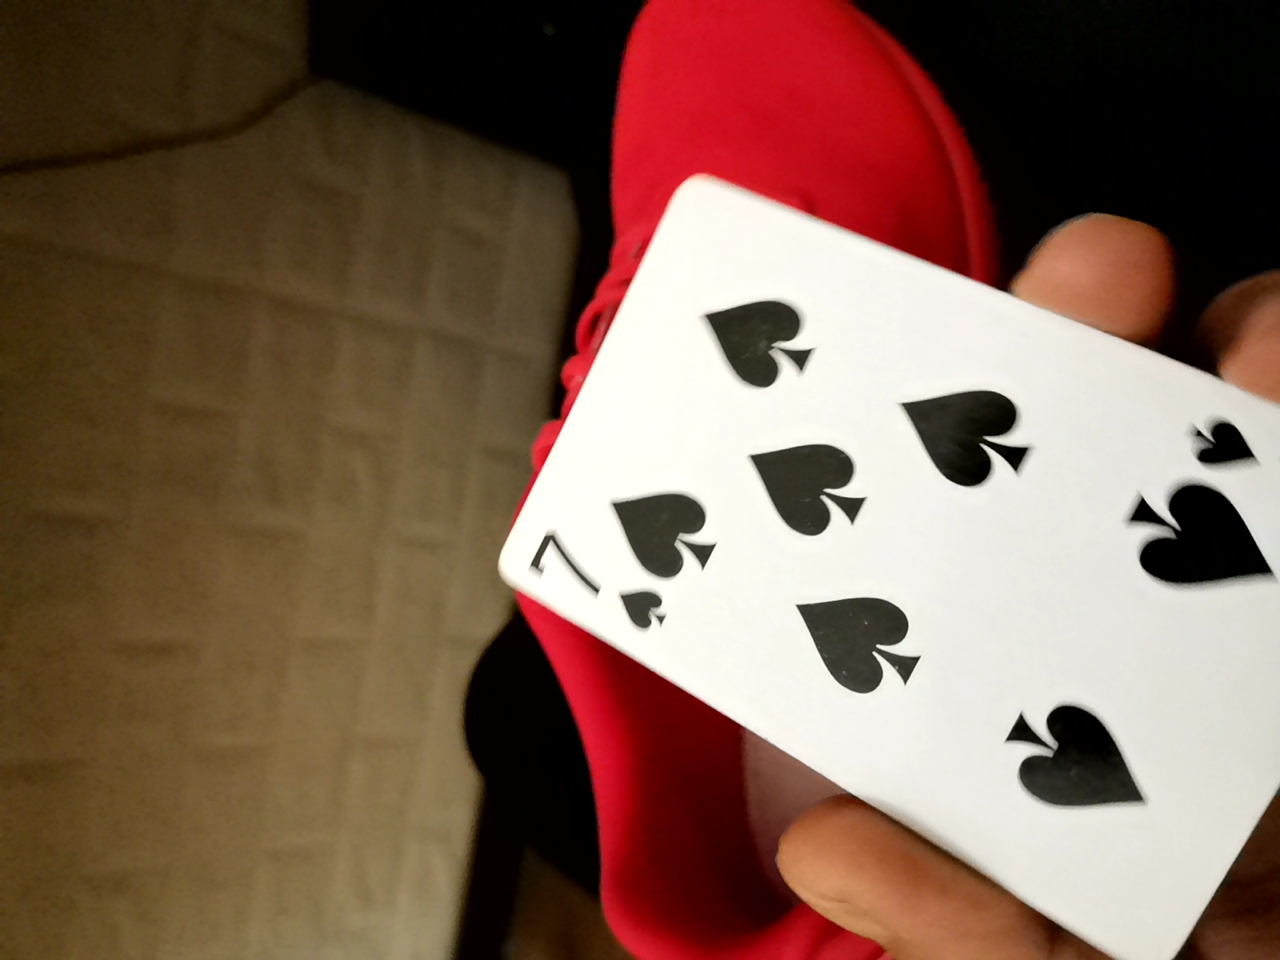ht 7: (461, 222, 1272, 923)
